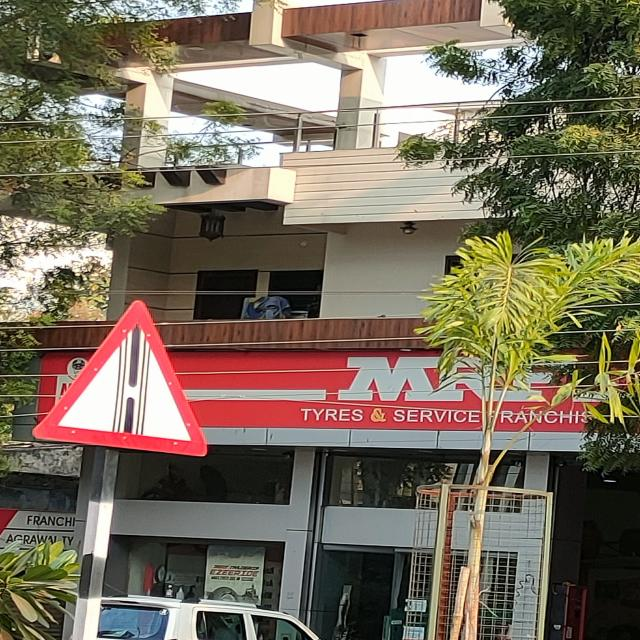GAP_IN_MEDIAN: (31, 298, 208, 457)
